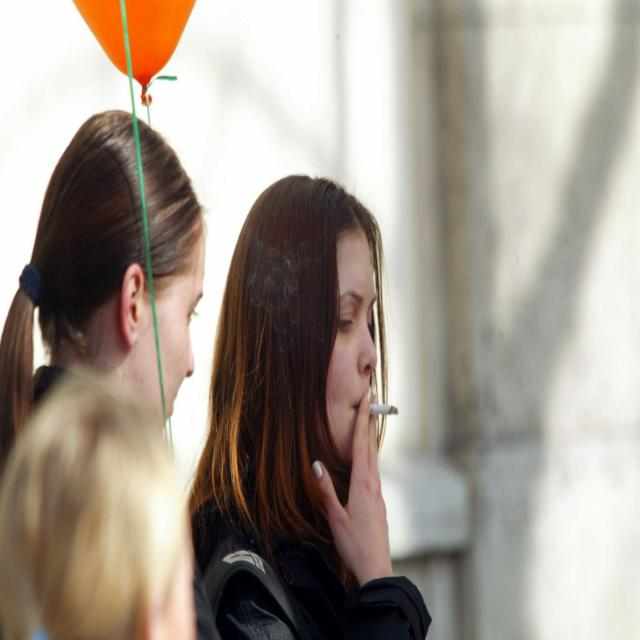cigarette: (360, 397, 400, 427)
